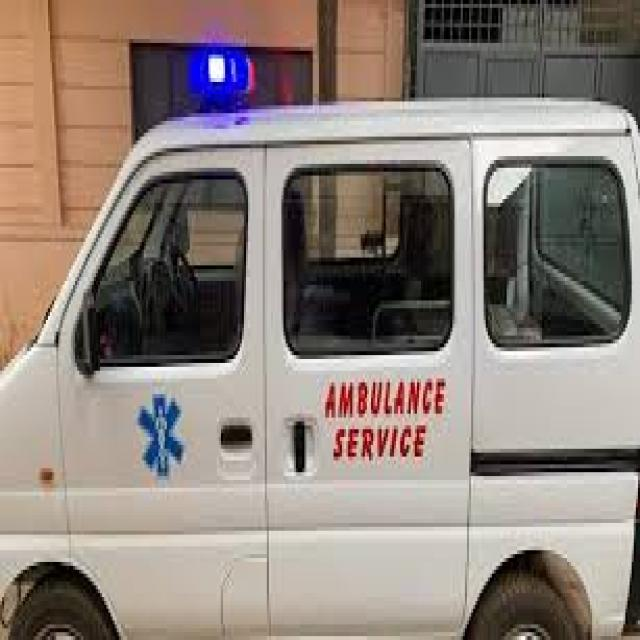ambulance: (3, 27, 640, 637)
